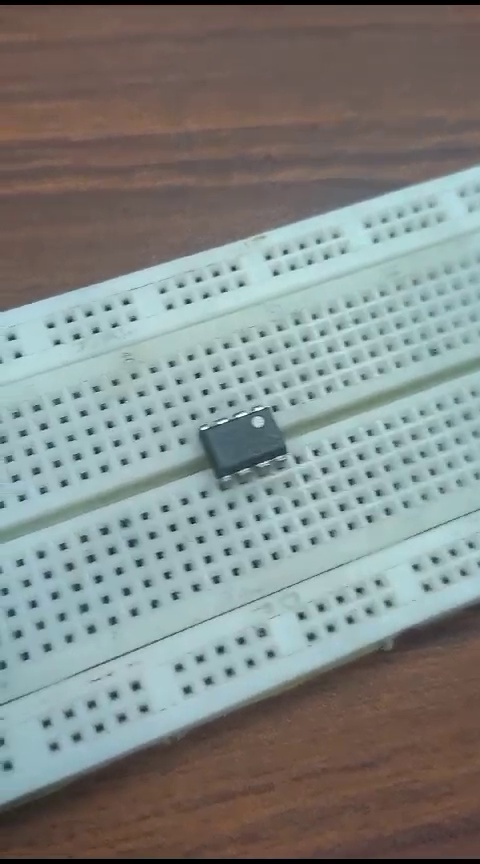IC: (194, 379, 294, 480)
